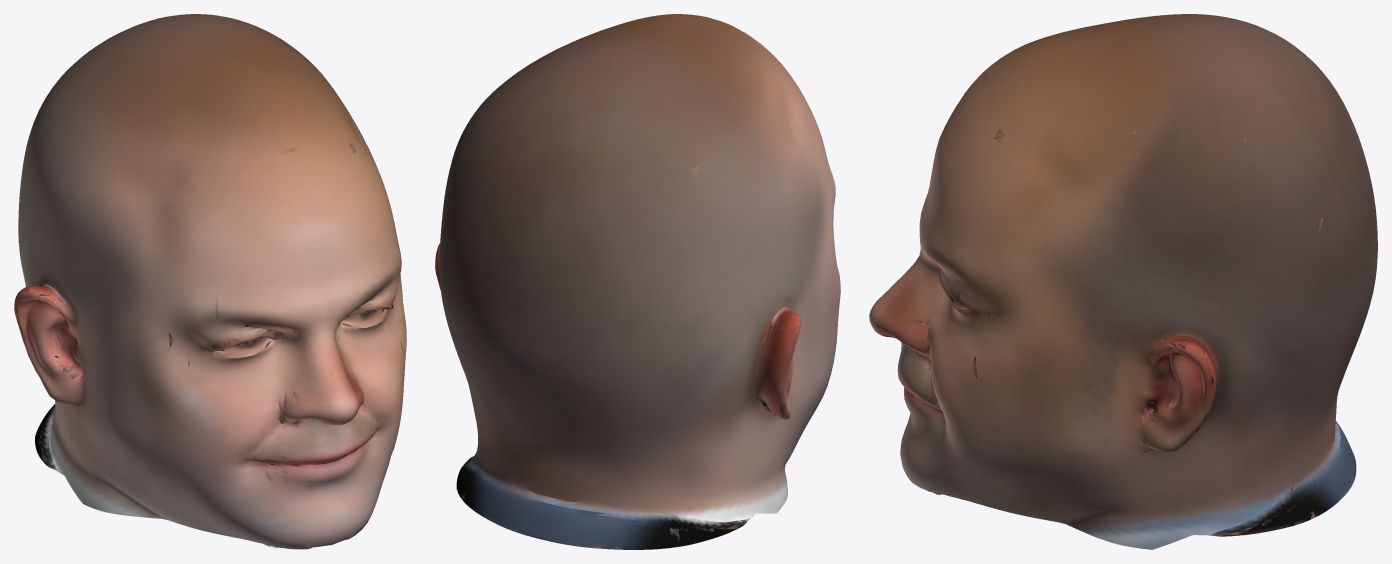
The model's file is Mr_Marcopolous.glb.
3 renders of one model, left to right at view 1: azimuth 30°, elevation 25°; view 2: azimuth 150°, elevation 25°; view 3: azimuth 270°, elevation 25°, orthographic. The views are drawn at different scales.
Parts seen in each view (by area): view 1: Mr.Marcopolous; view 2: Mr.Marcopolous; view 3: Mr.Marcopolous.
Part boxes in pixels (x1,y1,x2,y2): Mr.Marcopolous: (14, 14, 406, 549); Mr.Marcopolous: (435, 14, 840, 549); Mr.Marcopolous: (869, 14, 1377, 549).
Bounding box in the file's own units: 4.3 × 5.08 × 5.16.
Materials: 1 (1 with a texture image).
